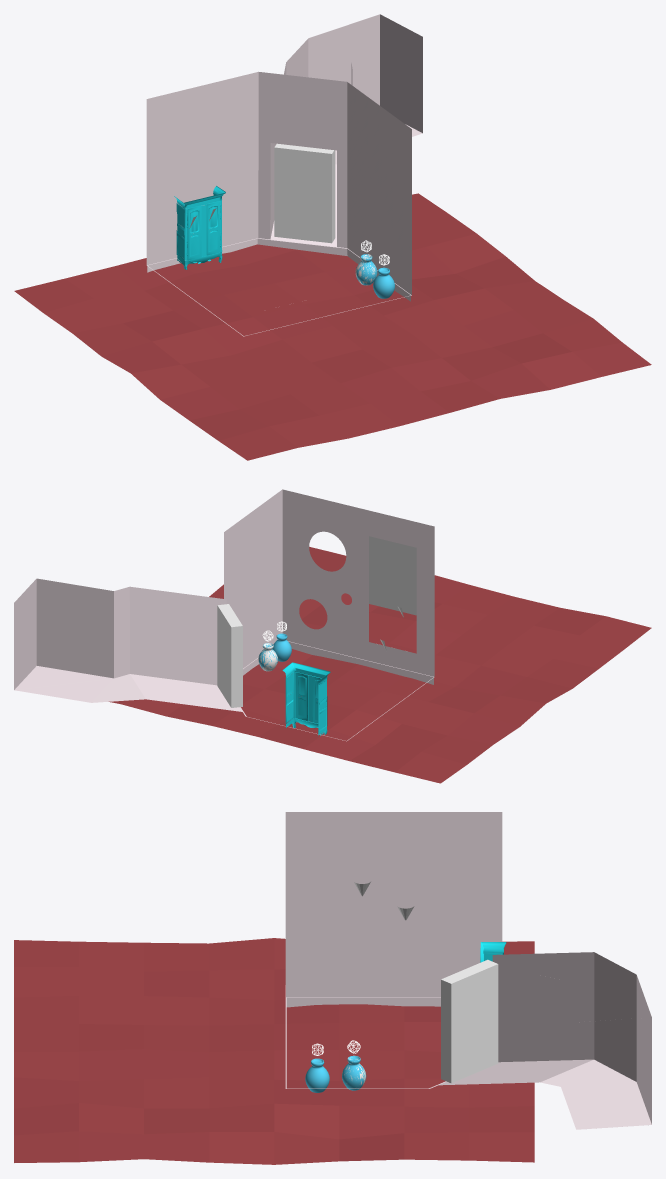
File: room2.glb
3 renders of one model, top to bottom at view 1: azimuth 30°, elevation 25°; view 2: azimuth 150°, elevation 25°; view 3: azimuth 270°, elevation 25°, orthographic. The views are drawn at different scales.
Visible parts, largest first — view 1: floor, Room, LinkA, Wardrober; view 2: Room, floor, Frame, Wardrober, LinkA; view 3: floor, Room, LinkA, Vase.001, Vase.
Boxes of the visible parts, left/top/right/bottom form: floor: left=14, top=193, right=651, bottom=460; Room: left=146, top=14, right=422, bottom=336; LinkA: left=274, top=143, right=335, bottom=243; Wardrober: left=174, top=186, right=225, bottom=269; Room: left=14, top=489, right=434, bottom=741; floor: left=109, top=546, right=651, bottom=783; Frame: left=369, top=536, right=416, bottom=615; Wardrober: left=282, top=662, right=330, bottom=735; LinkA: left=217, top=604, right=242, bottom=707; floor: left=14, top=938, right=534, bottom=1164; Room: left=285, top=812, right=651, bottom=1129; LinkA: left=441, top=959, right=498, bottom=1083; Vase.001: left=305, top=1058, right=329, bottom=1092; Vase: left=342, top=1055, right=366, bottom=1090.
Bounding box in the file's own units: 32.82 × 13.1 × 38.03.
